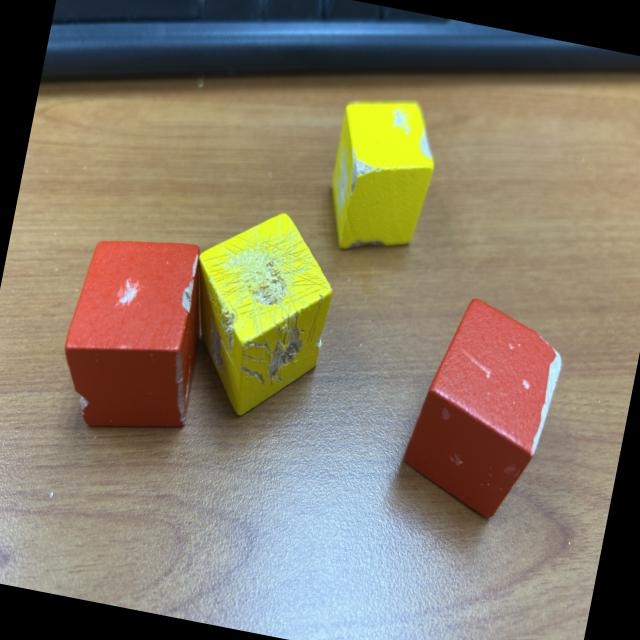broken: (396, 290, 571, 527), (170, 198, 346, 430), (51, 225, 220, 444), (318, 88, 446, 264)
